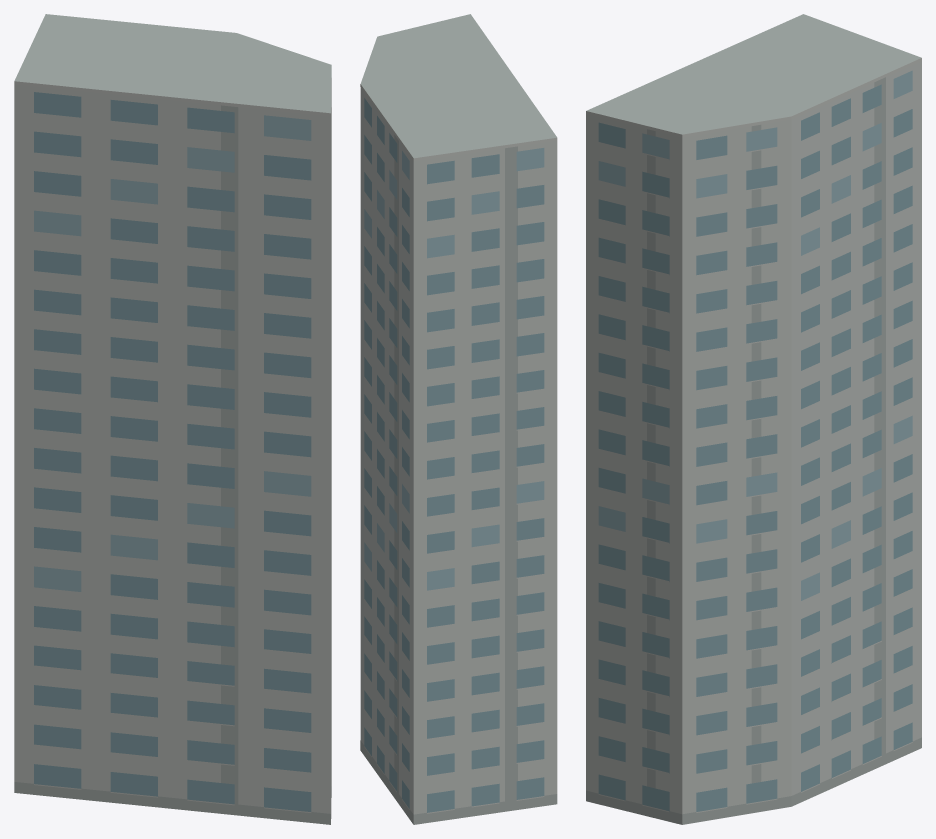
Rendered from residential-538ebf83-41cc-4deb-8916-3c2ac0efa62d.glb.
3 renders of one model, left to right at view 1: azimuth 30°, elevation 25°; view 2: azimuth 150°, elevation 25°; view 3: azimuth 270°, elevation 25°, orthographic. The views are drawn at different scales.
Parts seen in each view (by area): view 1: residential-538ebf83-41cc-4deb-8916-3c2ac0efa62d.tmp; view 2: residential-538ebf83-41cc-4deb-8916-3c2ac0efa62d.tmp; view 3: residential-538ebf83-41cc-4deb-8916-3c2ac0efa62d.tmp.
Part boxes in pixels (x1,y1,x2,y2): residential-538ebf83-41cc-4deb-8916-3c2ac0efa62d.tmp: (14,14,331,824); residential-538ebf83-41cc-4deb-8916-3c2ac0efa62d.tmp: (360,14,557,824); residential-538ebf83-41cc-4deb-8916-3c2ac0efa62d.tmp: (586,14,921,824).
Size of the model in its own units: 19.87 by 53 by 23.37.
